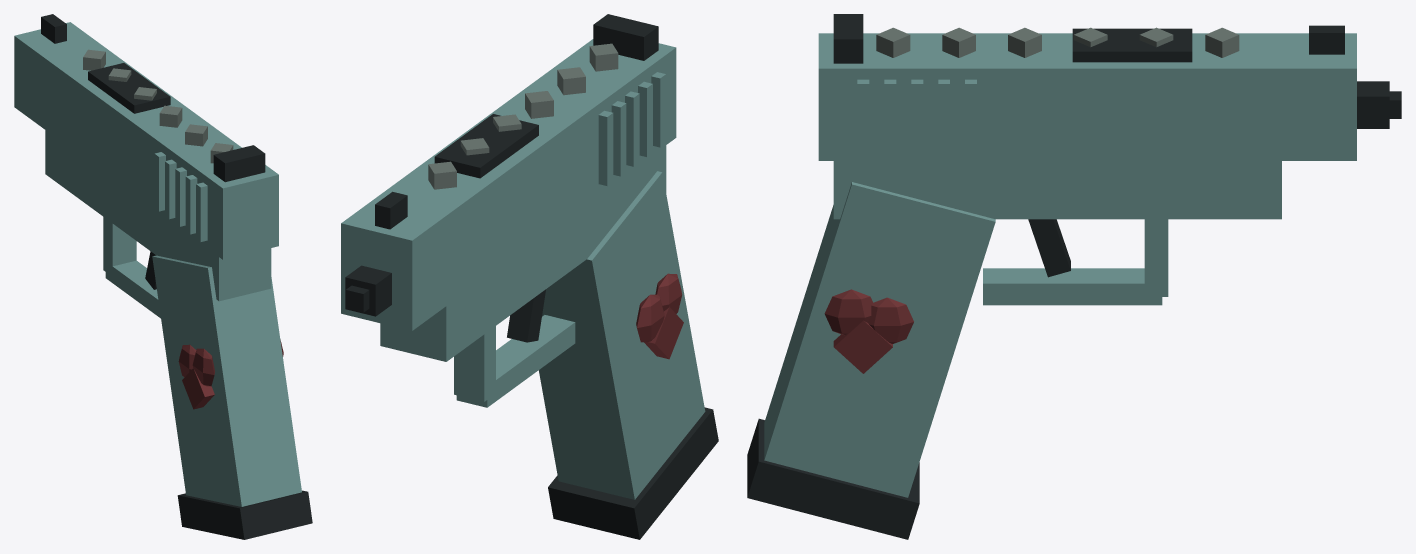
File: pistol_roz.glb
3 renders of one model, left to right at view 1: azimuth 30°, elevation 25°; view 2: azimuth 150°, elevation 25°; view 3: azimuth 270°, elevation 25°, orthographic. The views are drawn at different scales.
Visible parts, largest first — view 1: Pistol, Strasuri; view 2: Pistol, Strasuri; view 3: Pistol, Strasuri.
Part boxes in pixels (x1,y1,x2,y2): Pistol: [14, 14, 312, 539]; Strasuri: [83, 49, 233, 163]; Pistol: [341, 14, 718, 539]; Strasuri: [428, 43, 618, 189]; Pistol: [747, 14, 1401, 539]; Strasuri: [876, 27, 1239, 57].
Bounding box in the file's own units: 0.0402 × 0.1815 × 0.2188.
